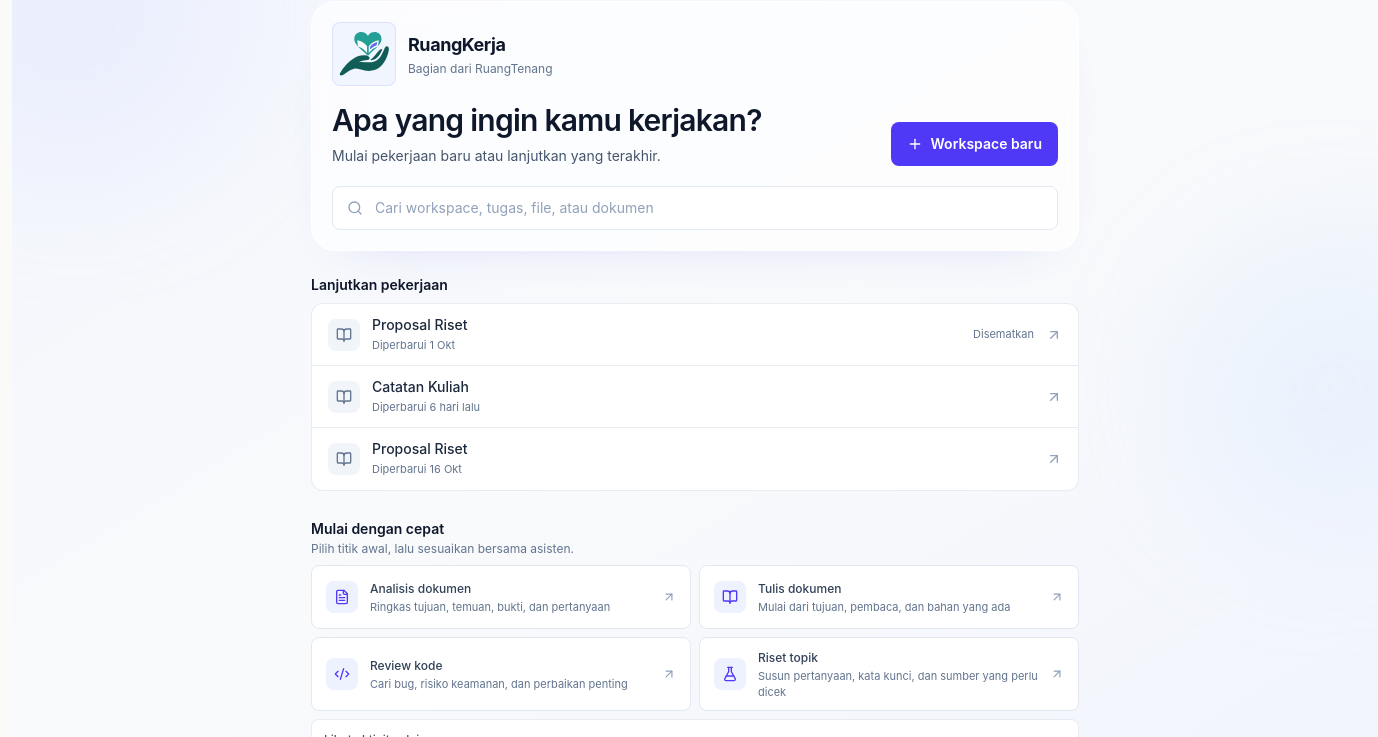
Test: Workspace home › keeps distinct workspaces with the same title visible and puts pinned work first
Click the button "Proposal Riset Diperbarui 1 Okt Disematkan": (344, 334) [312,304,1078,366]
(page scrolled)
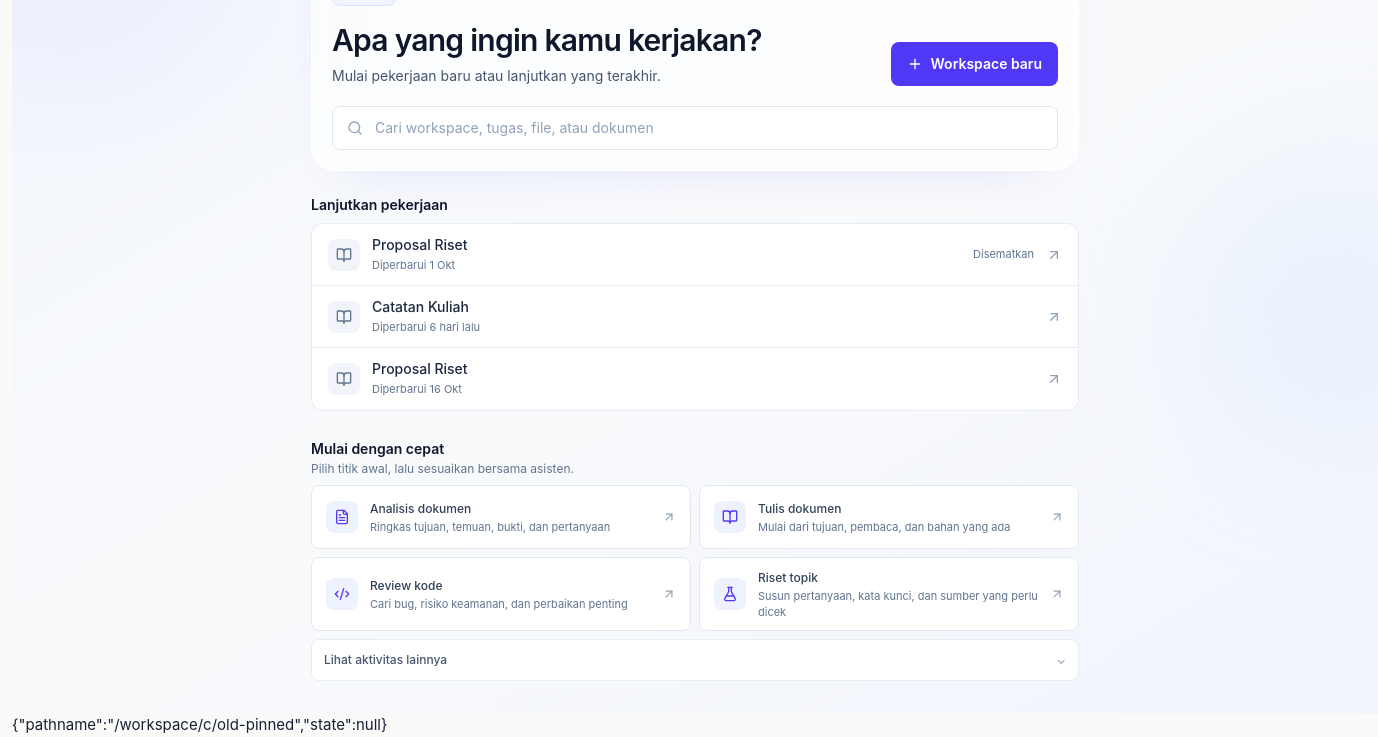
Check: the text with test id "location" shows "/workspace/c/old-pinned", box [12,715,387,734]
